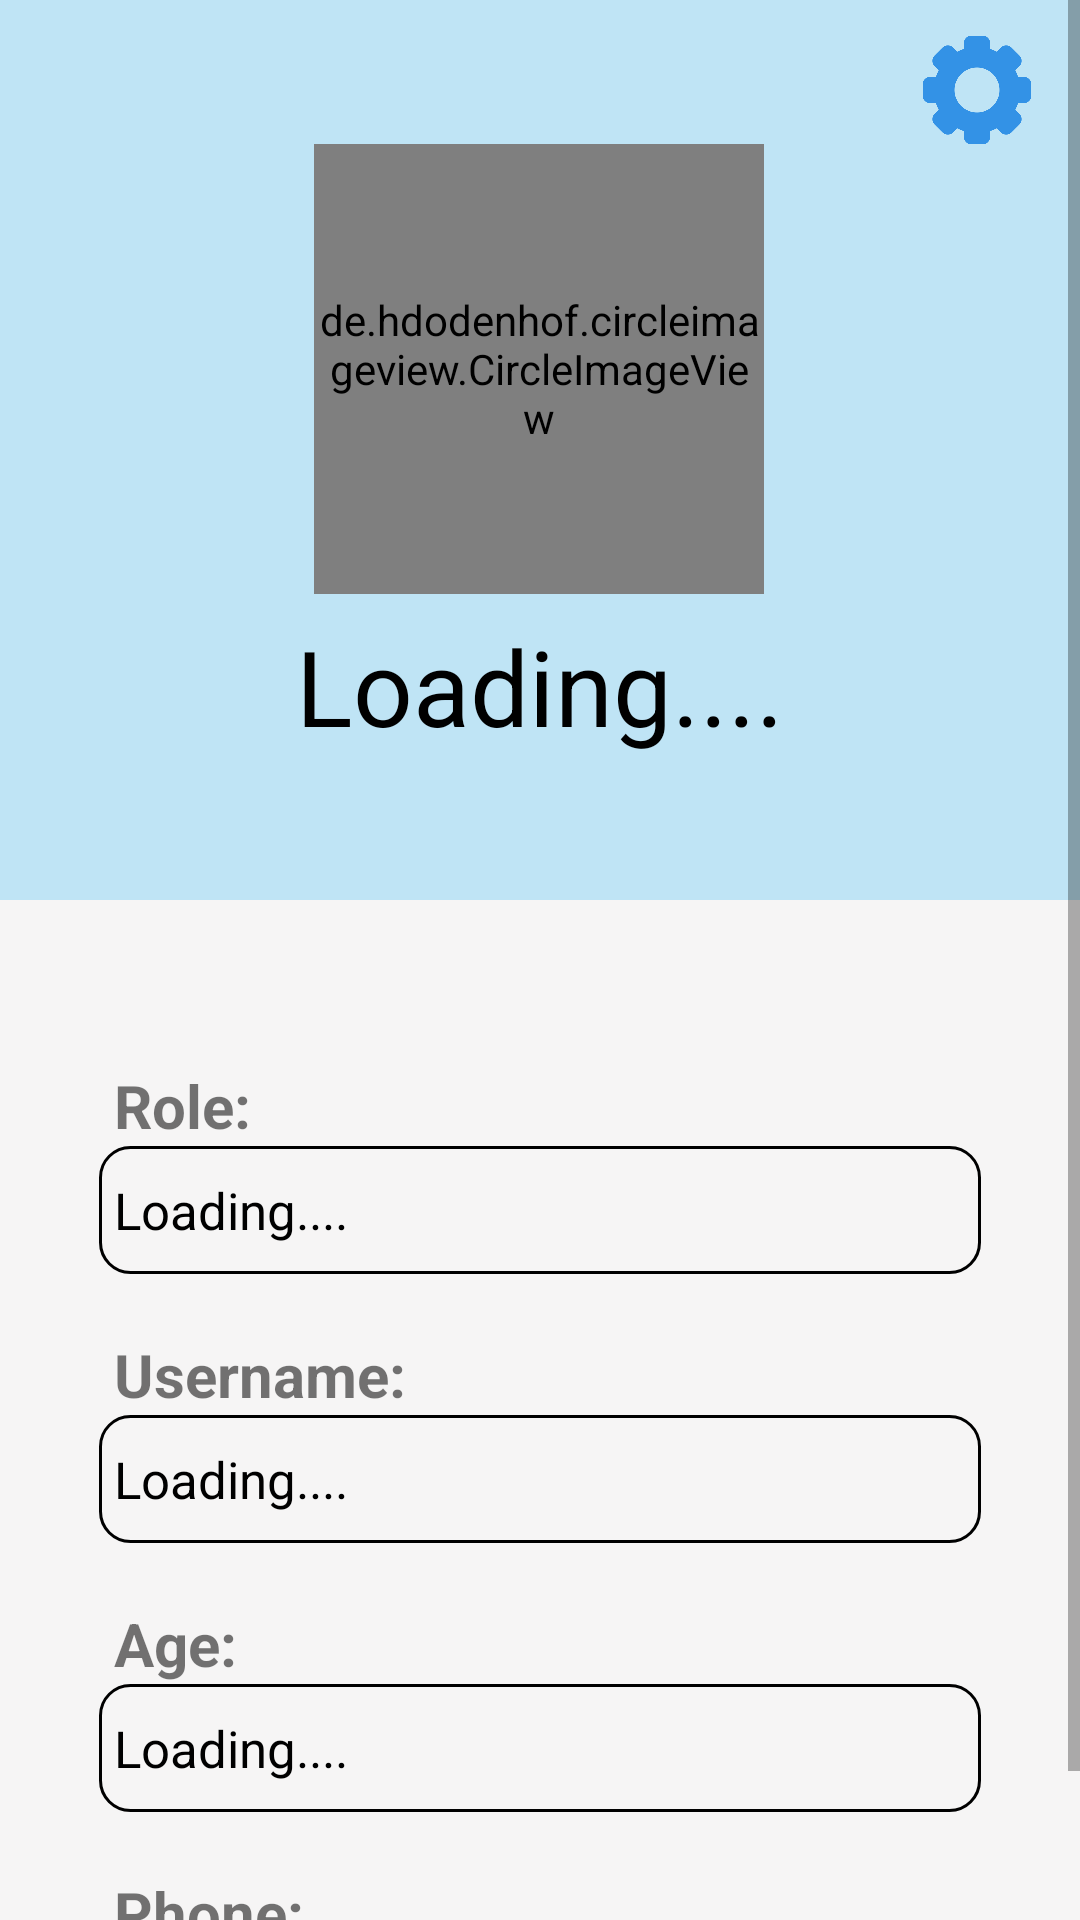

Screen size 1080w x 1920h. Icon name, then its center in pixels as point (x, y):
setting: point (977, 90)
